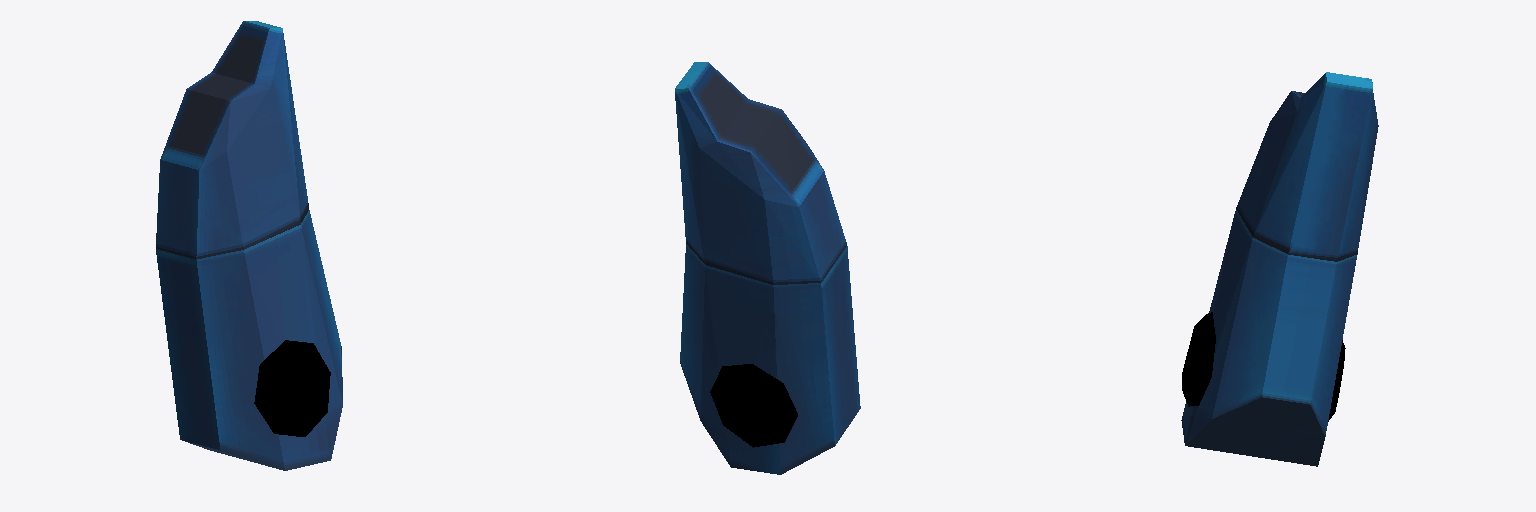
3 renders of one model, left to right at view 1: azimuth 30°, elevation 25°; view 2: azimuth 150°, elevation 25°; view 3: azimuth 270°, elevation 25°, orthographic.
Visible parts, largest first — view 1: Pierna_izquierda008, Pierna_izquierda009; view 2: Pierna_izquierda008, Pierna_izquierda010; view 3: Pierna_izquierda008, Pierna_izquierda009.
Boxes of the visible parts, <box> form: Pierna_izquierda008: <box>156,21,342,470</box>; Pierna_izquierda009: <box>254,340,330,436</box>; Pierna_izquierda008: <box>675,62,860,474</box>; Pierna_izquierda010: <box>710,364,797,447</box>; Pierna_izquierda008: <box>1181,72,1378,466</box>; Pierna_izquierda009: <box>1182,312,1215,406</box>.
Size of the model in its own units: 1.65 by 4.16 by 1.84.
Materials: 2 (1 with a texture image).